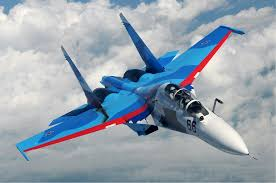maybay_muctieu: (15, 26, 264, 161)
